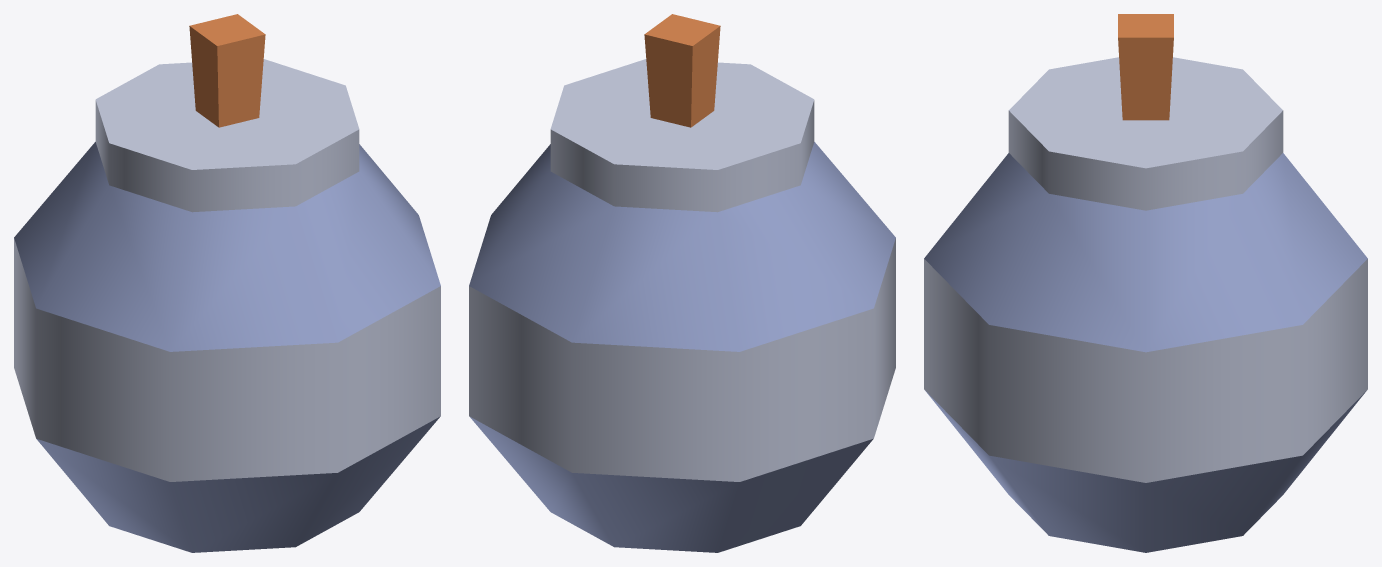
File: bomb.fbx
The picture shows the model from 3 angles, left to right: view 1: azimuth 30°, elevation 25°; view 2: azimuth 150°, elevation 25°; view 3: azimuth 270°, elevation 25°; orthographic projection.
Parts seen in each view (by area): view 1: bomb; view 2: bomb; view 3: bomb.
Boxes of the visible parts, left/top/right/bottom form: bomb: left=14, top=14, right=440, bottom=552; bomb: left=469, top=14, right=895, bottom=552; bomb: left=924, top=14, right=1367, bottom=552.
Size of the model in its own units: 3.42 by 4.34 by 3.42.
